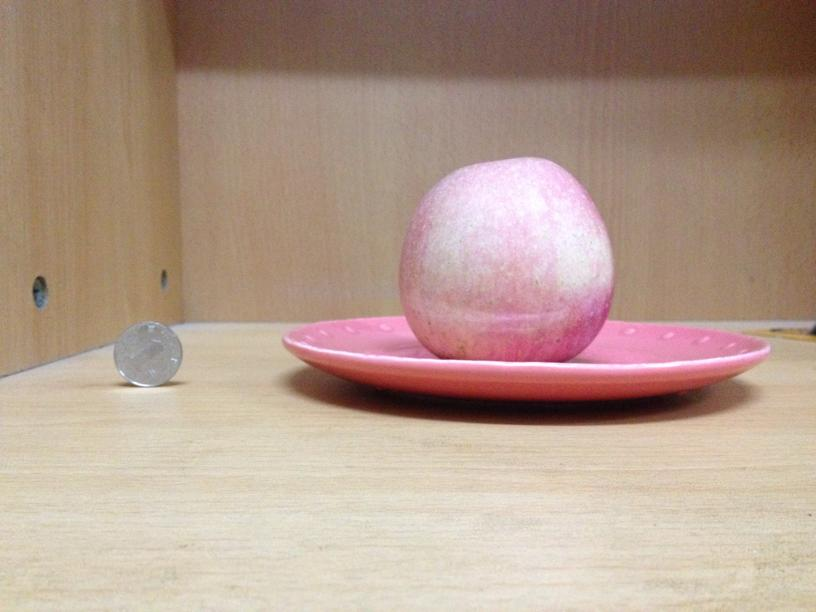apple: (398, 154, 615, 360)
coin: (113, 321, 183, 387)
